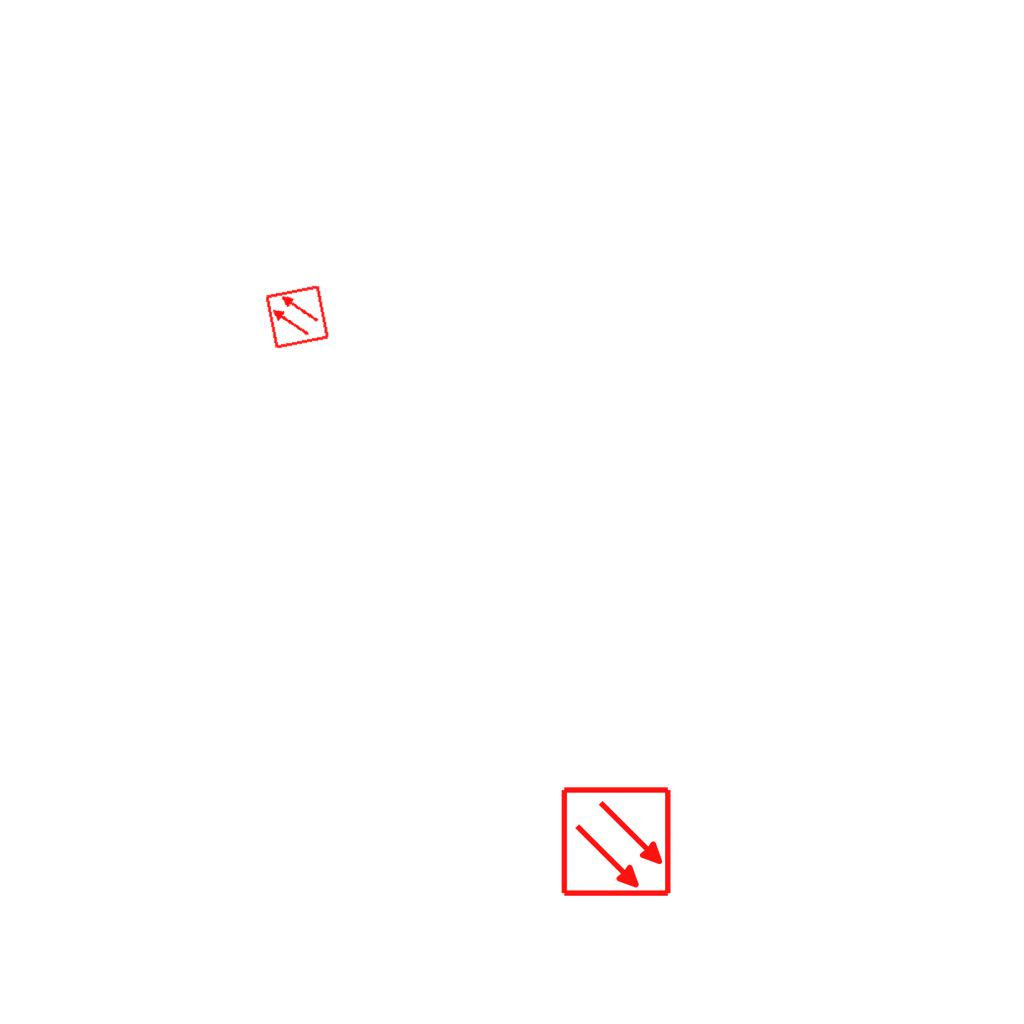RMO_Rauchmelder_optischer: (560, 785, 673, 898), (264, 284, 330, 350)
